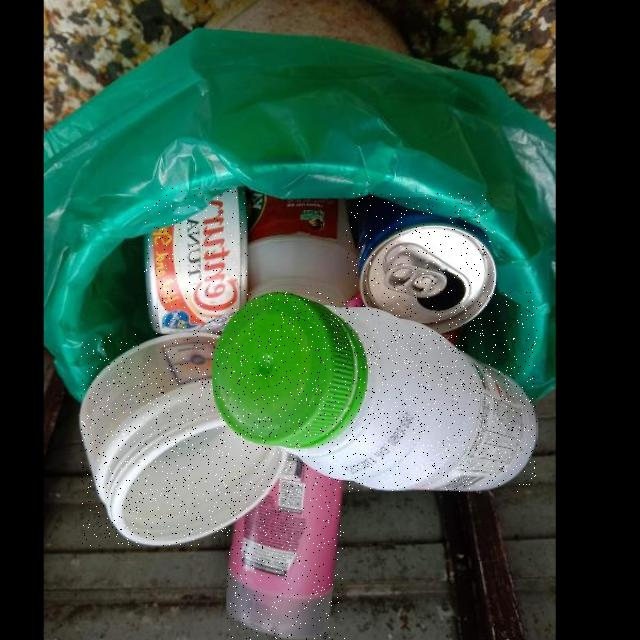metal: (346, 193, 496, 335), (144, 188, 248, 337)
plastic: (213, 291, 537, 492), (81, 334, 290, 545), (227, 455, 345, 640)
